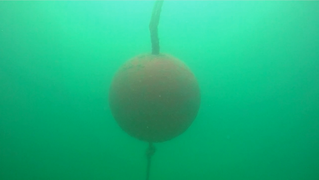bubble: (225, 134, 231, 140)
buoy: (107, 52, 201, 143)
